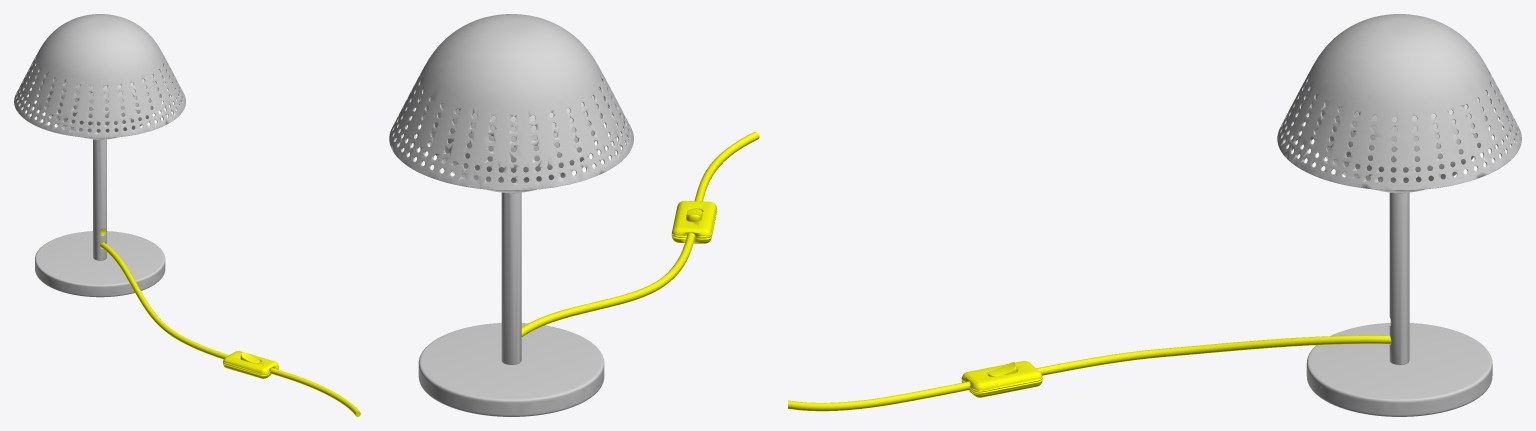
Rendered from designconnected-boshi-table-lamp-9953.optimized.glb.
3 views of the same model, side by side, from view 1: azimuth 30°, elevation 25°; view 2: azimuth 150°, elevation 25°; view 3: azimuth 270°, elevation 25° (orthographic). The views are drawn at different scales.
Parts seen in each view (by area): view 1: Ligne_Roset_Boshi; view 2: Ligne_Roset_Boshi; view 3: Ligne_Roset_Boshi.
Boxes of the visible parts, x1=… form: Ligne_Roset_Boshi: x1=14, y1=14, x2=360, y2=416; Ligne_Roset_Boshi: x1=389, y1=14, x2=759, y2=416; Ligne_Roset_Boshi: x1=788, y1=14, x2=1521, y2=416.
Size of the model in its own units: 0.16 by 0.255 by 0.48.
Materials: 4 (2 with a texture image).
